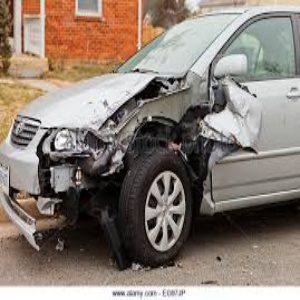bumper: (11, 160, 117, 246)
door: (196, 83, 274, 176)
